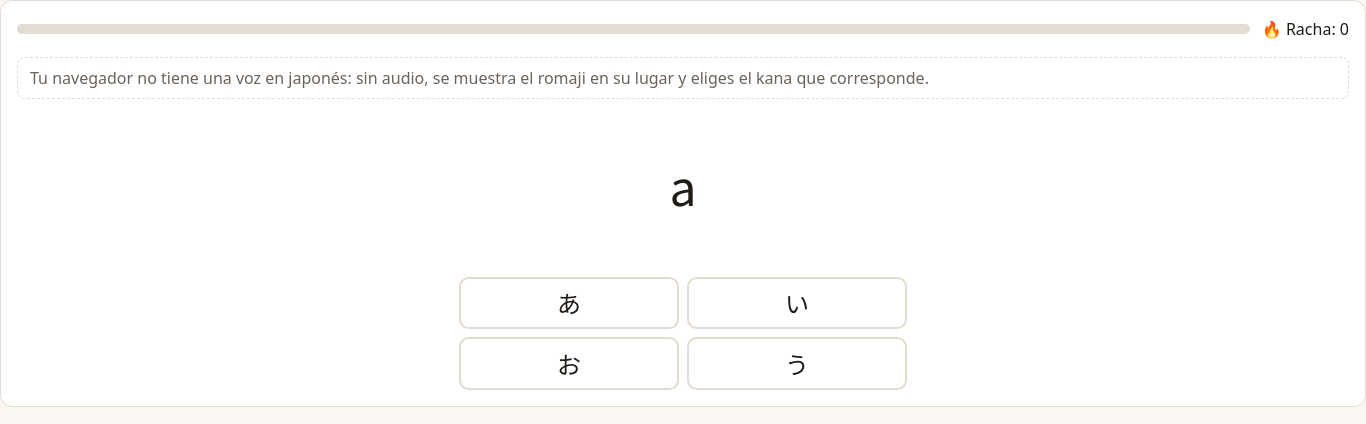
Test case: listen feedback and distractors › single kana: «Kana: a»
The width and height of the screenshot is (1366, 424).
Click the button "あ" at (569, 303), box x1=459 y1=277 x2=679 y2=329
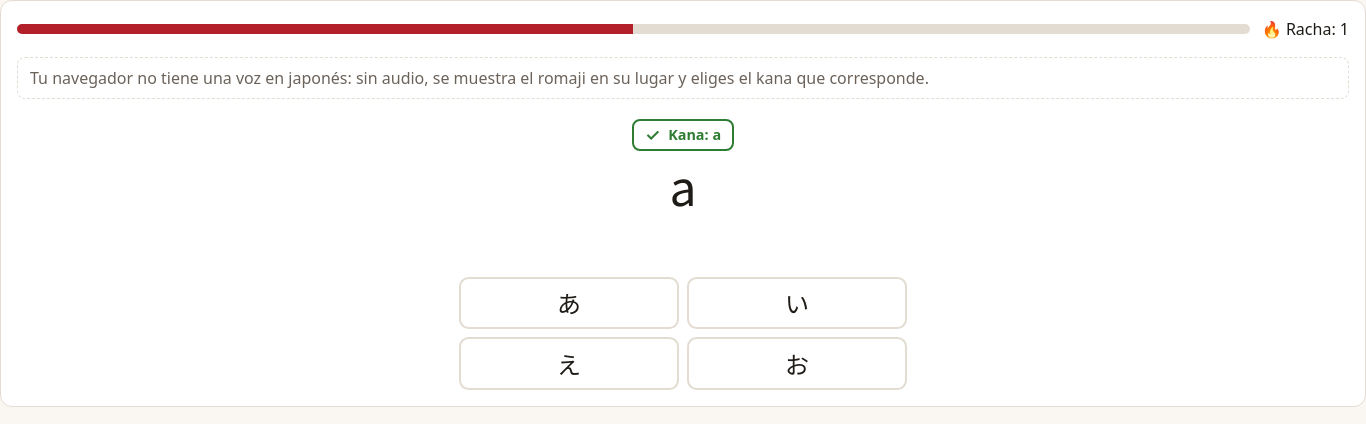
Check: the text "Kana: a" is shown, box x1=668 y1=126 x2=721 y2=144
